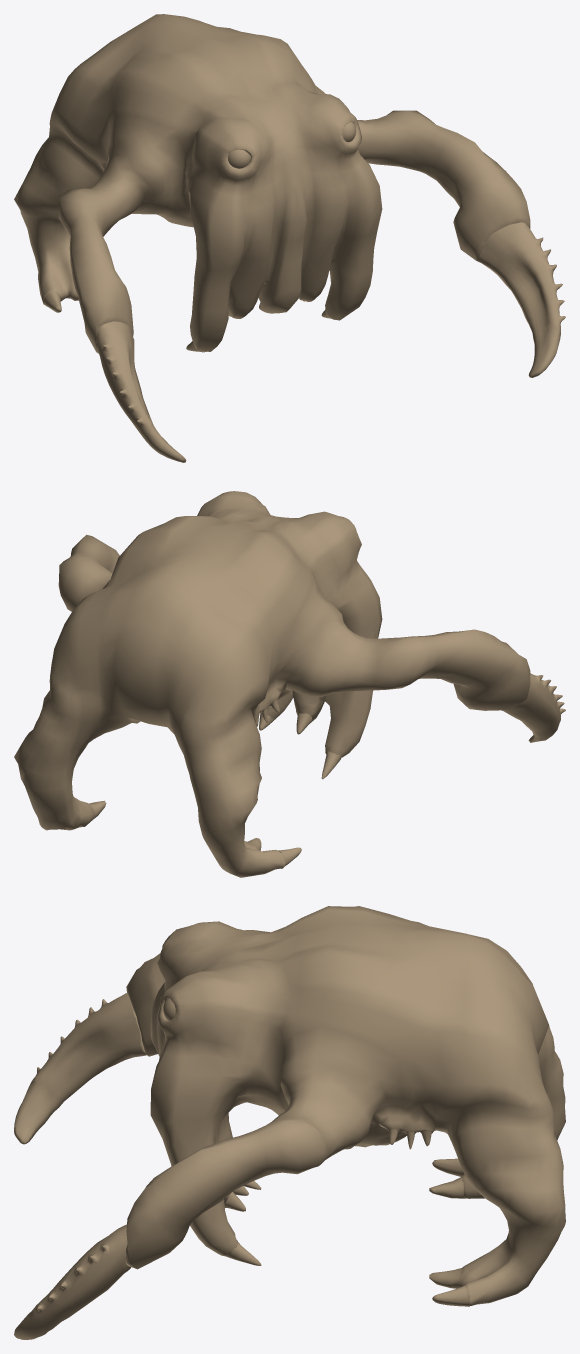
The model's file is BodyTrapper_TestCombine.fbx.
3 renders of one model, top to bottom at view 1: azimuth 30°, elevation 25°; view 2: azimuth 150°, elevation 25°; view 3: azimuth 270°, elevation 25°, orthographic. The views are drawn at different scales.
Parts seen in each view (by area): view 1: BloodyTrapper; view 2: BloodyTrapper; view 3: BloodyTrapper.
Boxes of the visible parts, x1,y1,x2,y2 form: BloodyTrapper: [14, 14, 565, 462]; BloodyTrapper: [14, 491, 565, 877]; BloodyTrapper: [14, 906, 565, 1339].
Size of the model in its own units: 72.95 by 42.76 by 68.
